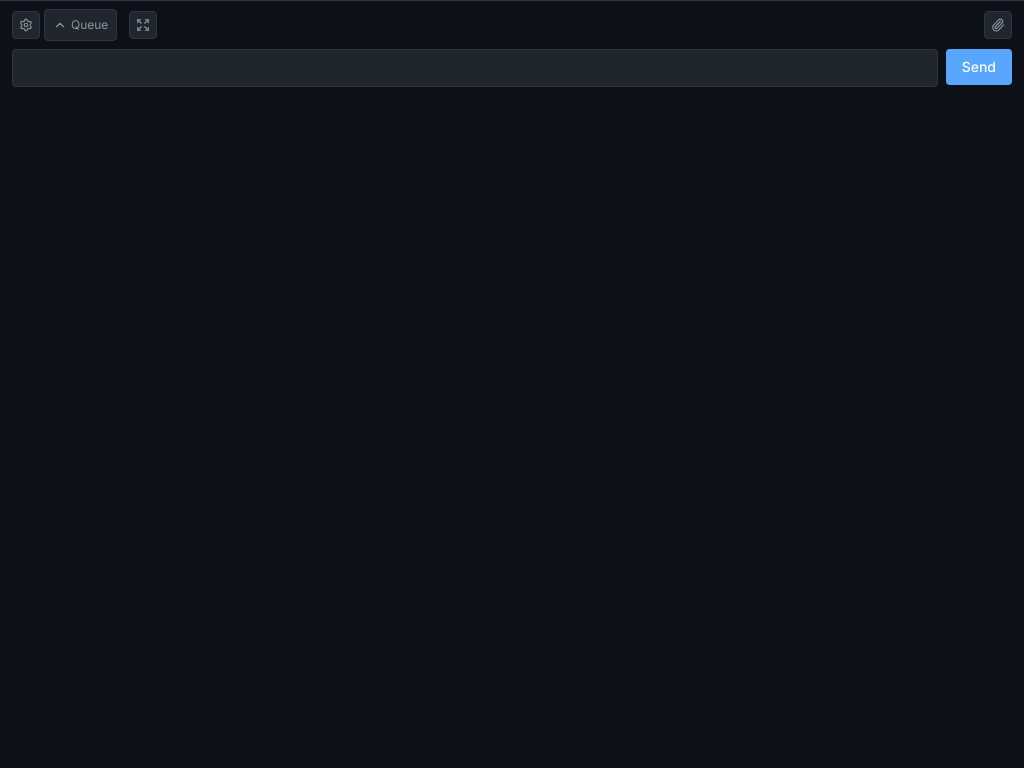
InputRow send queue wiring › closes the server browser with its close button and backdrop
This screenshot has width=1024, height=768.
Step 1. Click the button named "添加附件" → (998, 25), box [984,11,1012,39]
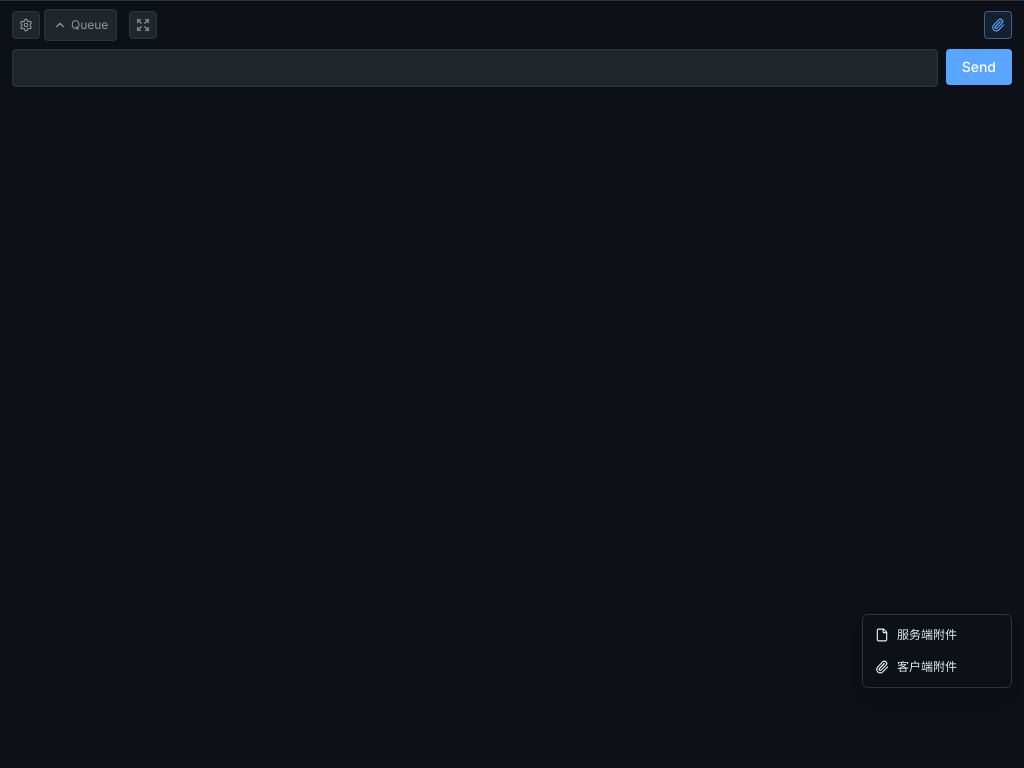
Step 2. Click the button "服务端附件" → (937, 635), box [863,619,1011,651]
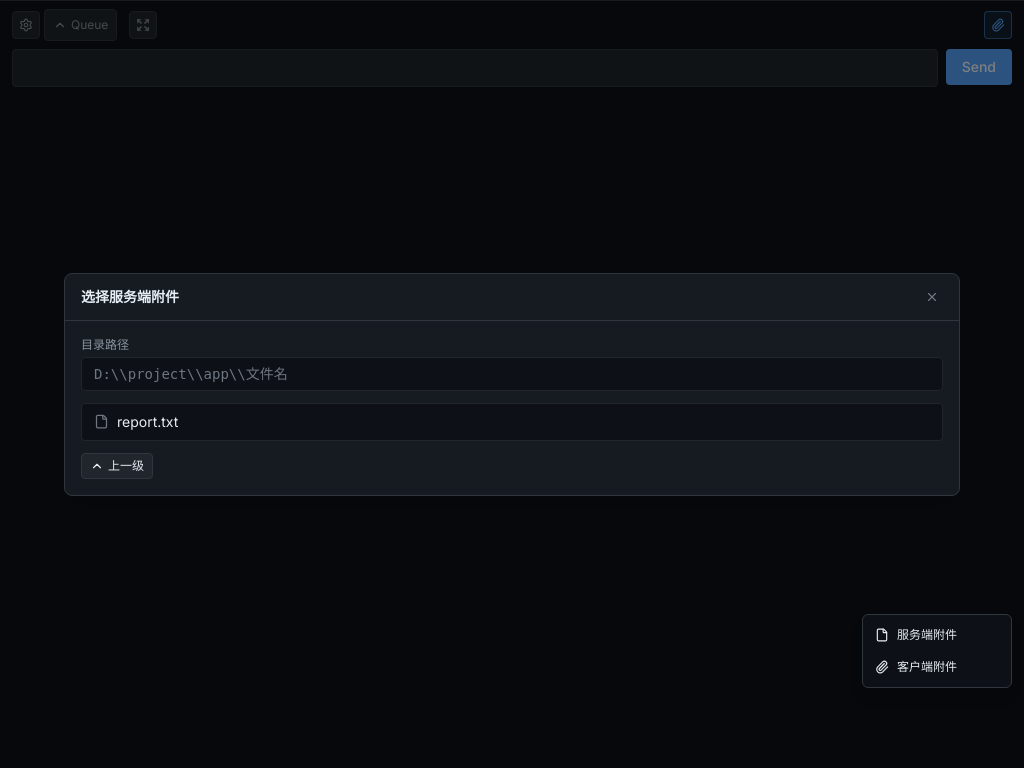
Check: the element with test id "directory-input-panel" is shown, box [81,336,943,478]
Step 3. Click the button named "Close" → (932, 296), box [921,286,943,308]
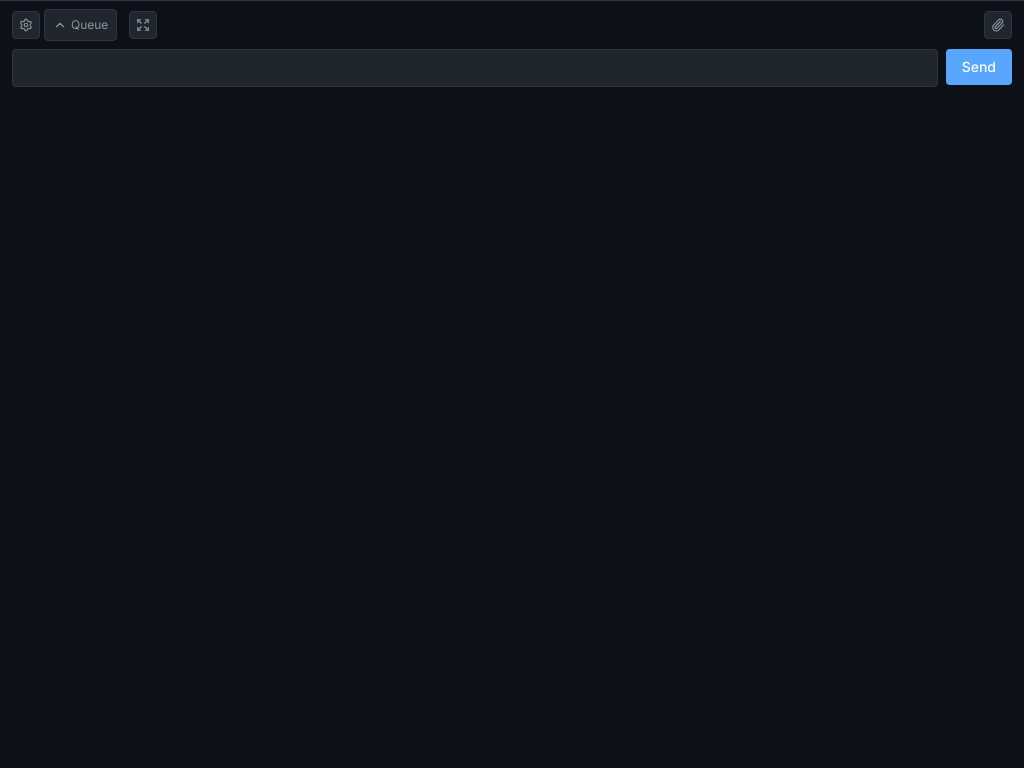
Check: the element with test id "directory-input-panel" is gone
Step 4. Click the button named "添加附件" → (998, 25), box [984,11,1012,39]
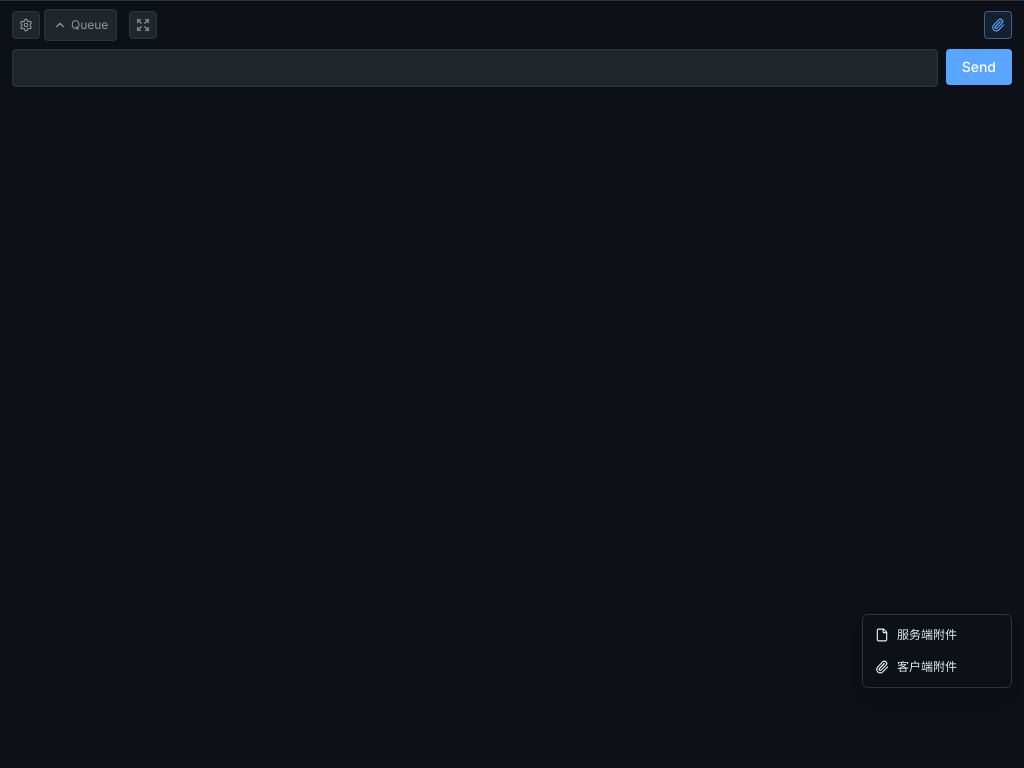
Step 5. Click the button "服务端附件" → (937, 635), box [863,619,1011,651]
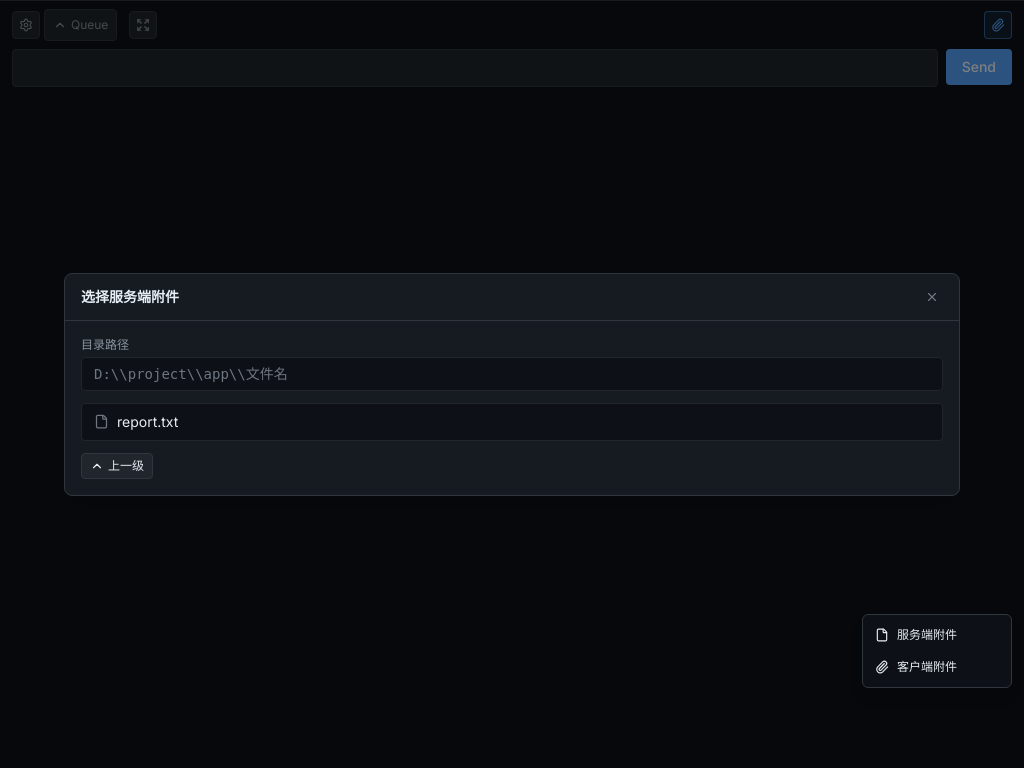
Check: the element with test id "directory-input-panel" is shown, box [81,336,943,478]
Step 6. Click the element with class "modal-overlay" → (61, 384), box [0,0,1023,767]
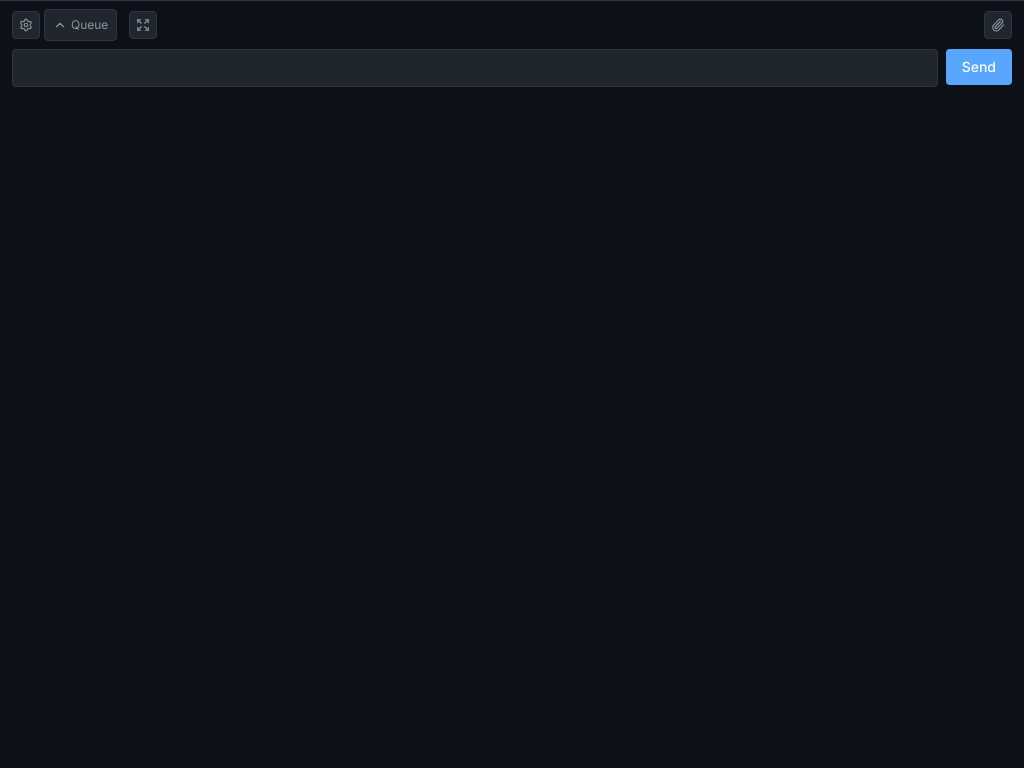
Check: the element with test id "directory-input-panel" is gone
